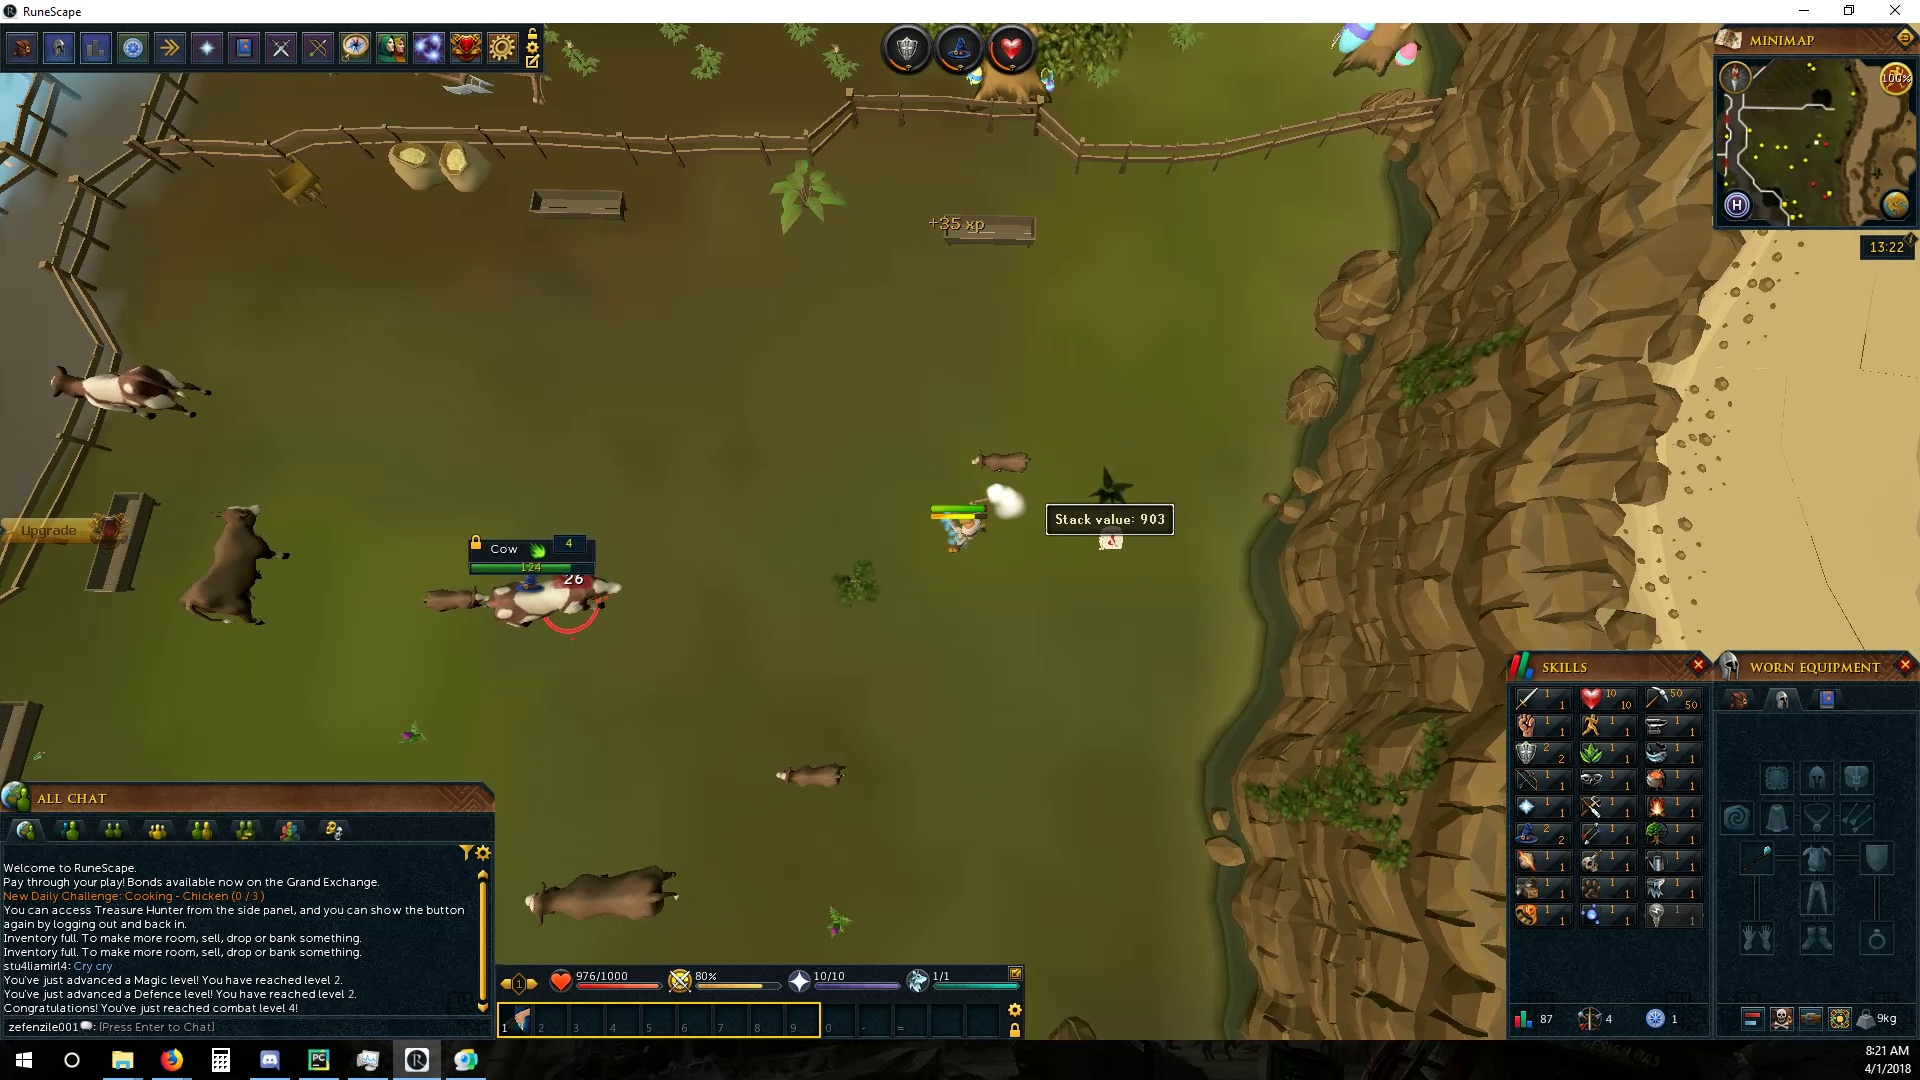calf: (775, 761, 847, 790), (422, 585, 489, 615), (965, 452, 1031, 473)
cow: (179, 502, 291, 626), (44, 363, 215, 422), (517, 862, 680, 924), (480, 578, 632, 633)
cow_drop: (1091, 531, 1126, 553)
